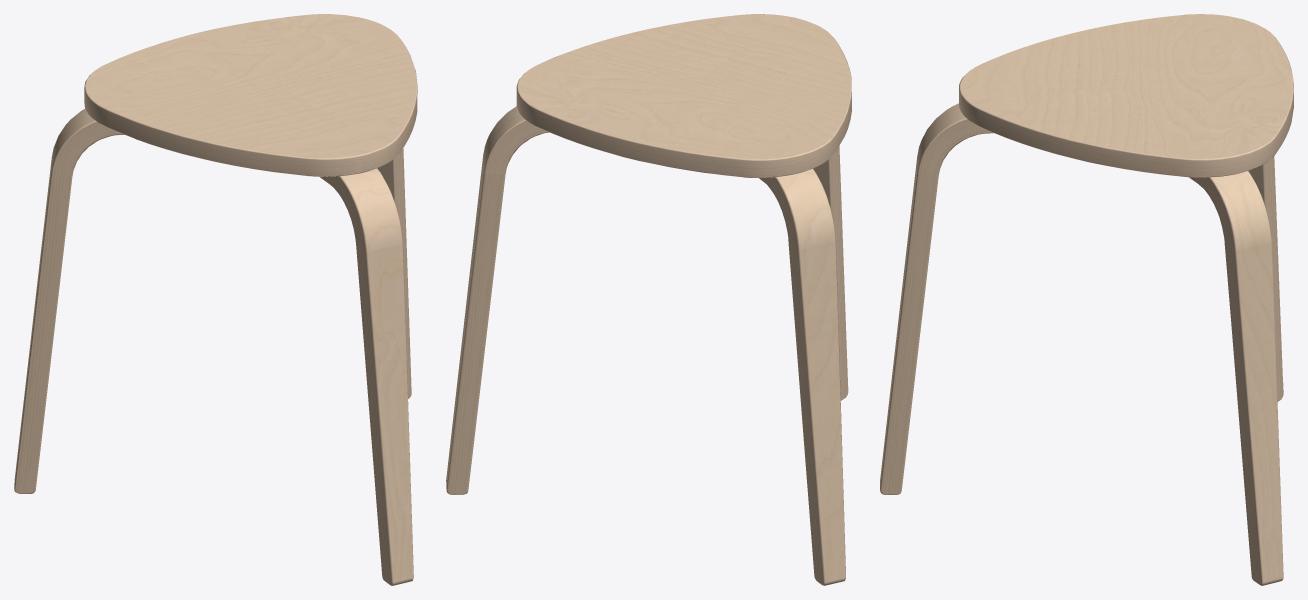
File: kyrre_stoek_60416925.glb
The picture shows the model from 3 angles, left to right: view 1: azimuth 30°, elevation 25°; view 2: azimuth 150°, elevation 25°; view 3: azimuth 270°, elevation 25°; orthographic projection.
Visible parts, largest first — view 1: kyrre_stoek_60416925; view 2: kyrre_stoek_60416925; view 3: kyrre_stoek_60416925.
Part boxes in pixels (x1,y1,x2,y2): kyrre_stoek_60416925: (14,14,417,585); kyrre_stoek_60416925: (446,14,851,585); kyrre_stoek_60416925: (880,14,1293,585).
Size of the model in its own units: 0.4672 by 0.452 by 0.4199.
Materials: 1 (1 with a texture image).
